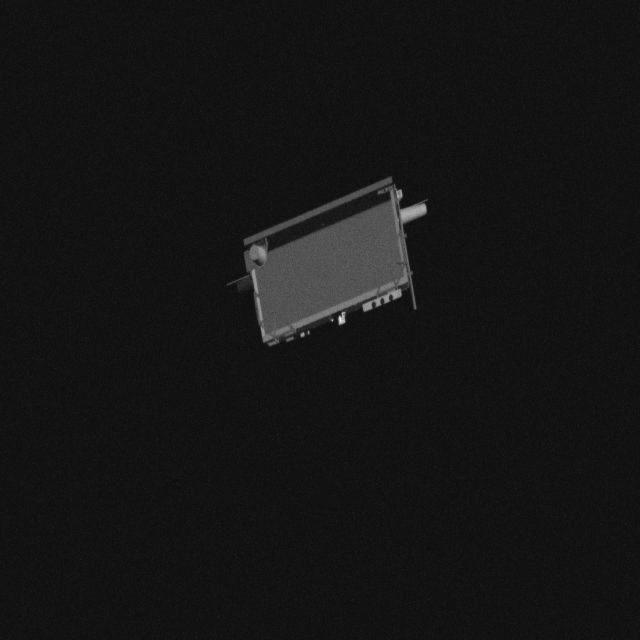satellite: (214, 178, 436, 348)
